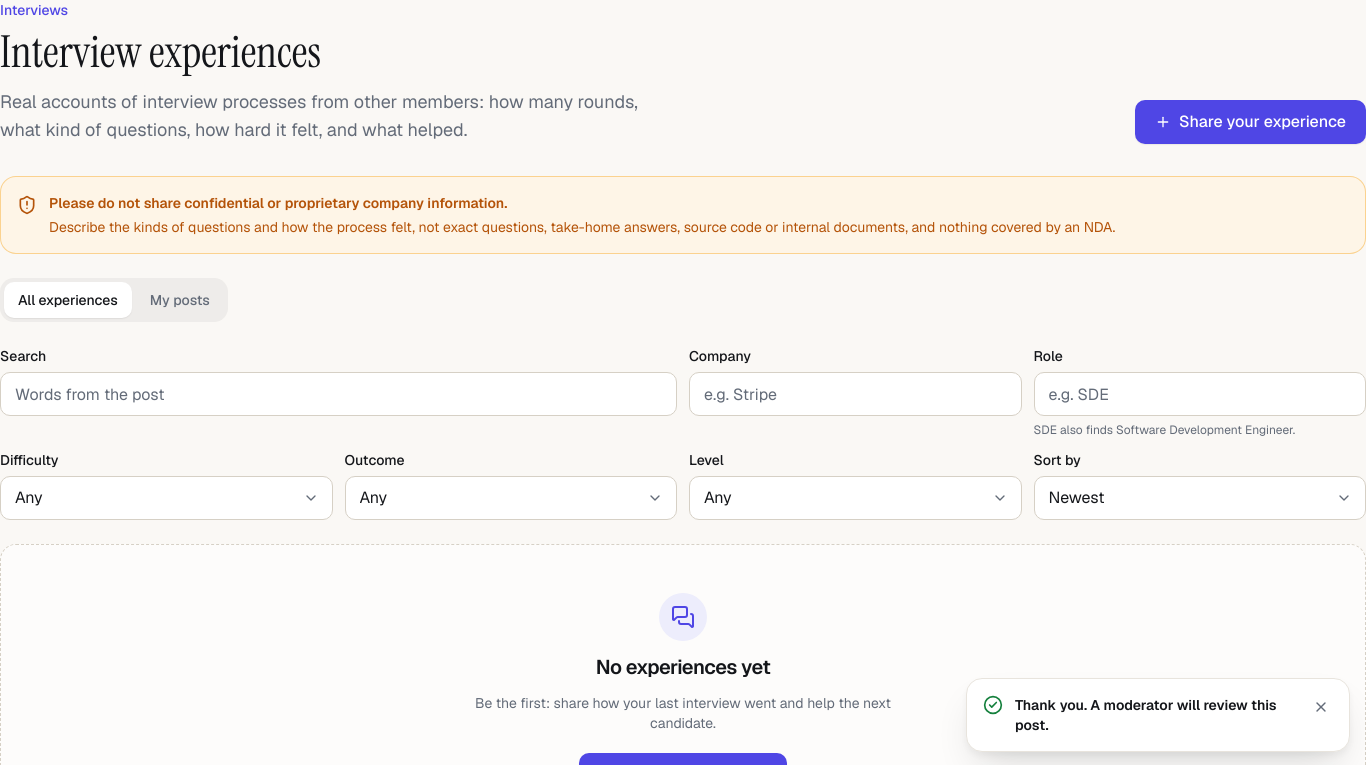
Scenario: Interviews page › explains empty results versus an empty site
Expected: the heading "No experiences yet" is shown, [596, 653, 770, 681]
Type "zzz" into the field labelled "Company". click: [855, 394]
box: [689, 372, 1022, 416]
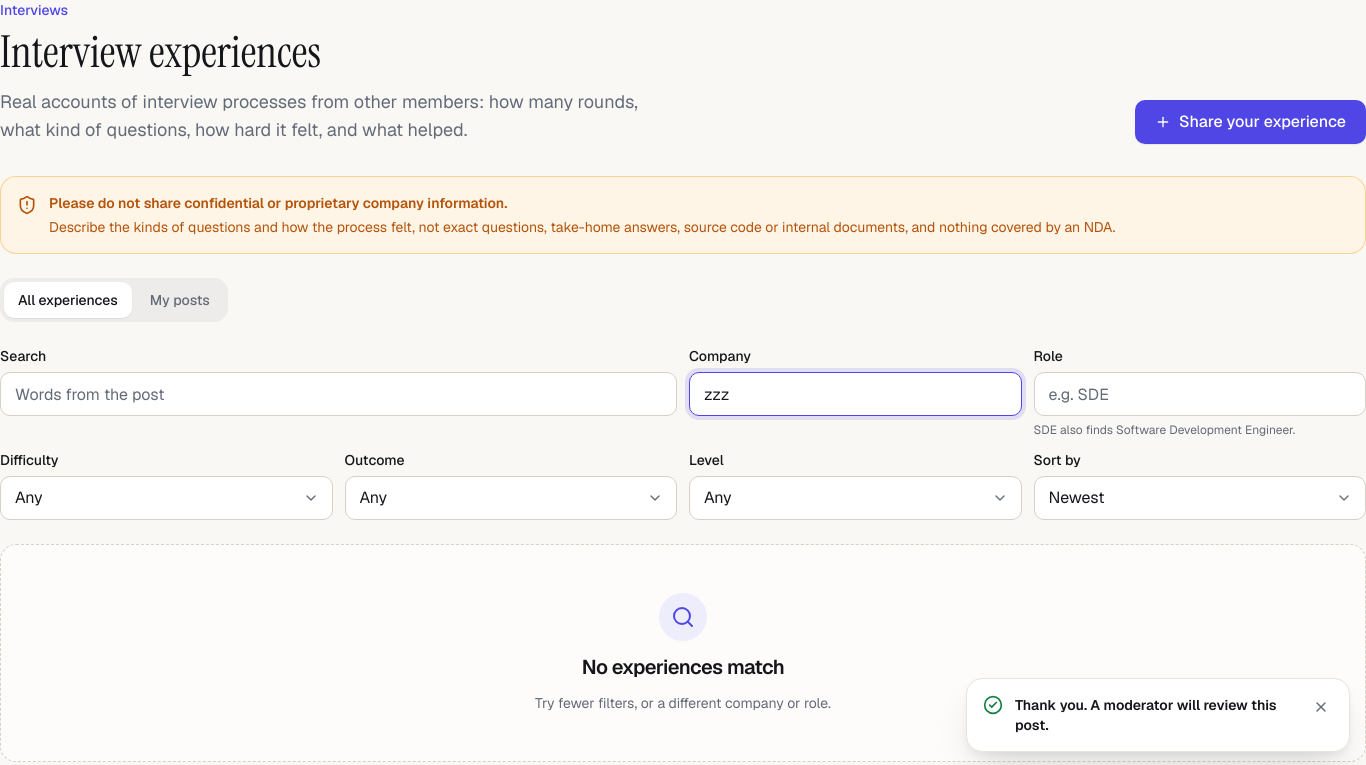
Expected: the heading "No experiences match" is shown, [582, 653, 784, 681]
